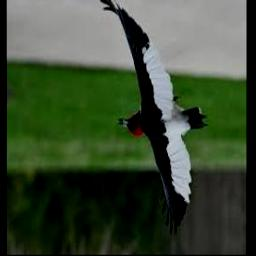Woodpecker: (100, 0, 207, 235)
